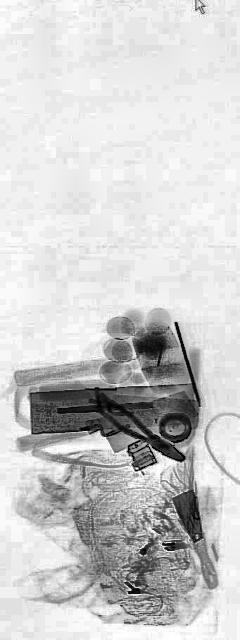Pliers: (96, 387, 186, 471)
